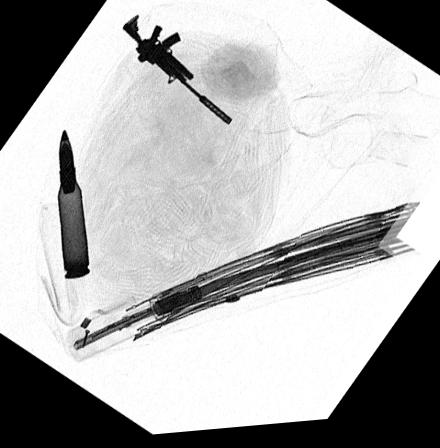Bullet: (57, 130, 92, 279)
Gun: (121, 17, 233, 130)
